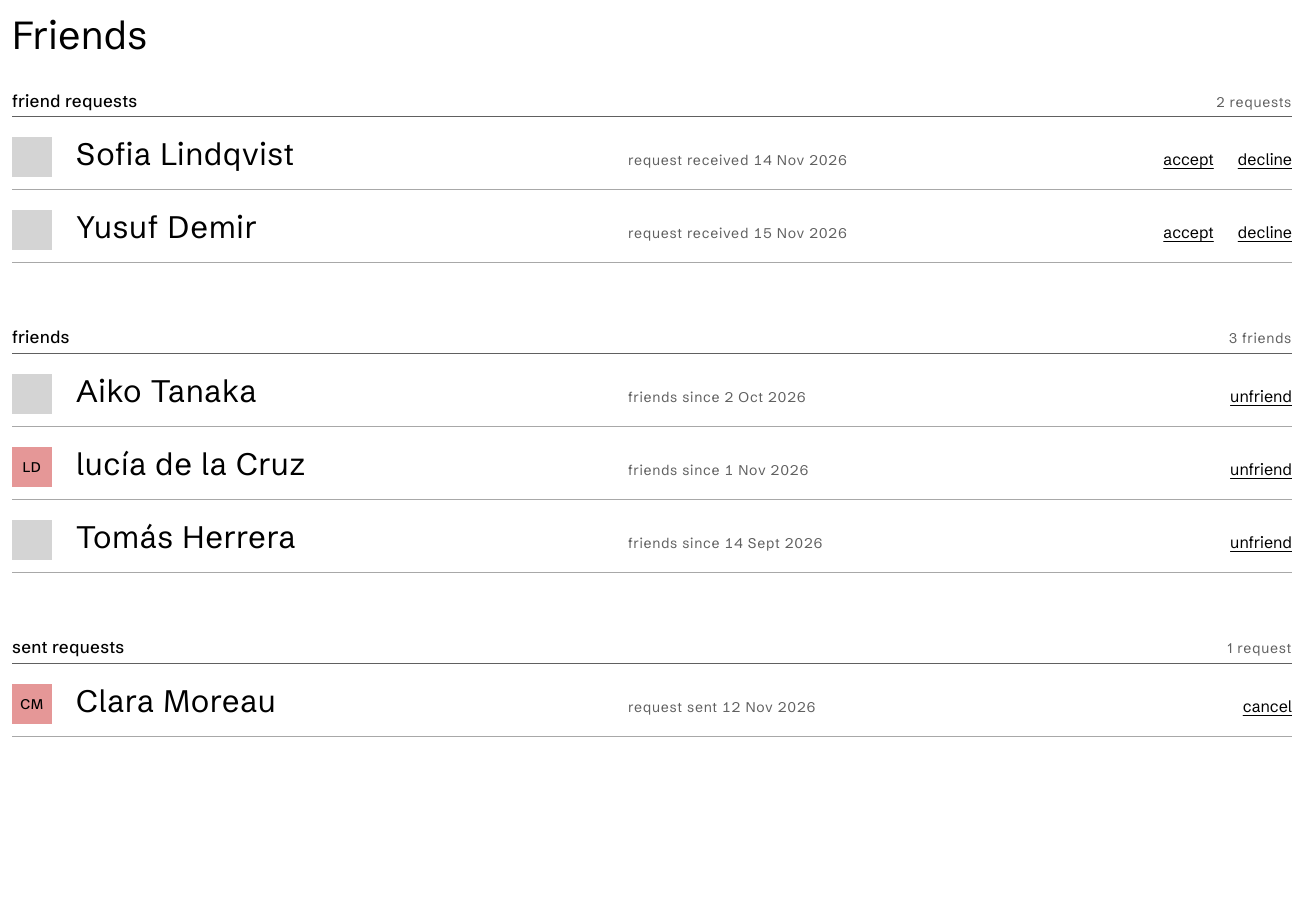
FriendsPage actions (F-49, F-50, F-55, B-26, B-27) › B-26, F-53: an action on a request that is gone shows the error and refetches the real lists
Expected: the element "friends" is shown, [12, 327, 1292, 573]
Click the button named "accept request from Sofia Lindqvist". click: (1189, 160)
box: [1163, 148, 1214, 172]
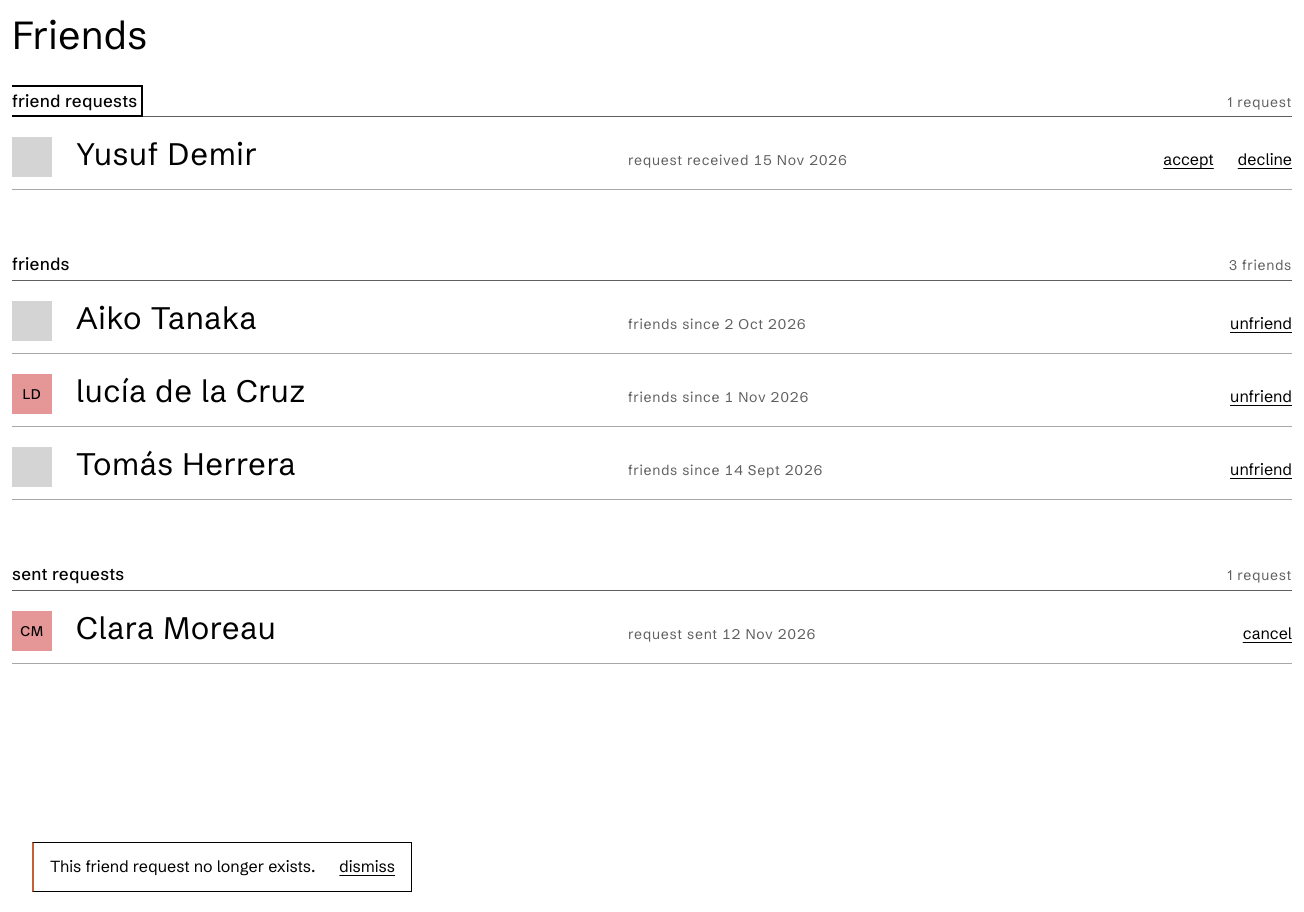
Expected: the message shows "This friend request no longer exists.", [50, 856, 315, 876]
Expected: the link "Sofia Lindqvist" no longer shows "Sofia Lindqvist"
